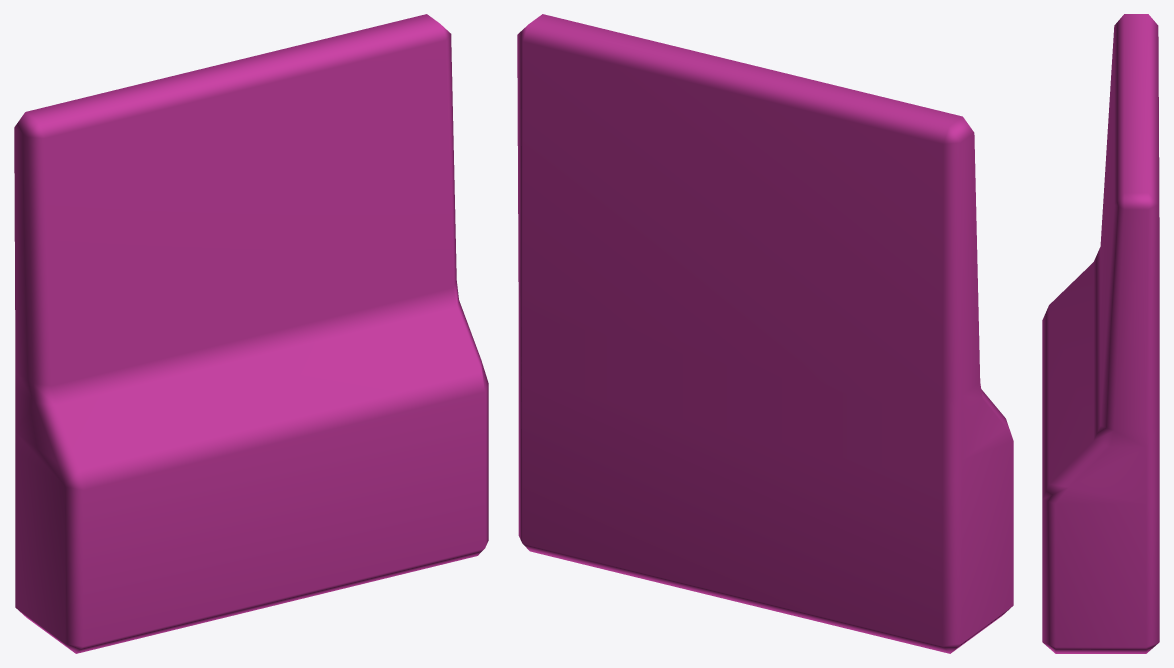
Rendered from OBS0110037.fbx.
3 views of the same model, side by side, from view 1: azimuth 30°, elevation 25°; view 2: azimuth 150°, elevation 25°; view 3: azimuth 270°, elevation 25° (orthographic). The views are drawn at different scales.
Visible parts, largest first — view 1: smOBS0110037; view 2: smOBS0110037; view 3: smOBS0110037.
Boxes of the visible parts, bbox=[...] form: smOBS0110037: bbox=[14, 14, 488, 653]; smOBS0110037: bbox=[517, 14, 1013, 653]; smOBS0110037: bbox=[1042, 14, 1159, 653].
Bounding box in the file's own units: 144 × 164 × 37.85.
1 material, 1 textured.
